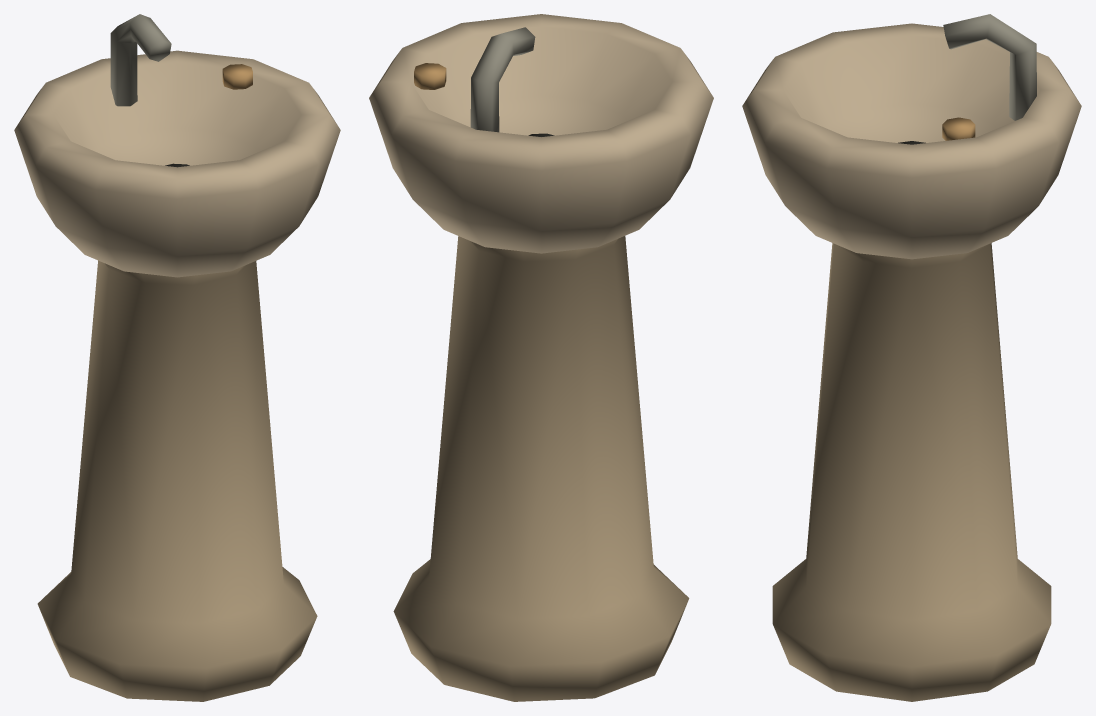
The model's file is drinking_fountain.glb.
The picture shows the model from 3 angles, left to right: view 1: azimuth 30°, elevation 25°; view 2: azimuth 150°, elevation 25°; view 3: azimuth 270°, elevation 25°; orthographic projection. The views are drawn at different scales.
Visible parts, largest first — view 1: drinking_fountain; view 2: drinking_fountain; view 3: drinking_fountain.
Boxes of the visible parts, box(x1,y1,x2,y2) form: drinking_fountain: box(14, 14, 340, 701); drinking_fountain: box(369, 14, 713, 701); drinking_fountain: box(742, 14, 1081, 701).
Bounding box in the file's own units: 0.58 × 1.19 × 0.58.
